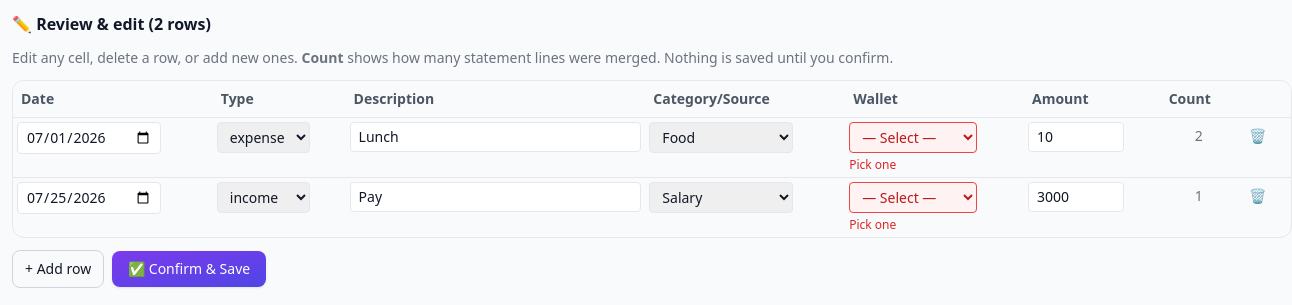
Test: TransactionPreview › blocks save when a row has no wallet and wallets exist
The image size is (1292, 305).
Click the button "✅ Confirm & Save".
click(189, 269)  # box x1=112 y1=251 x2=266 y2=287
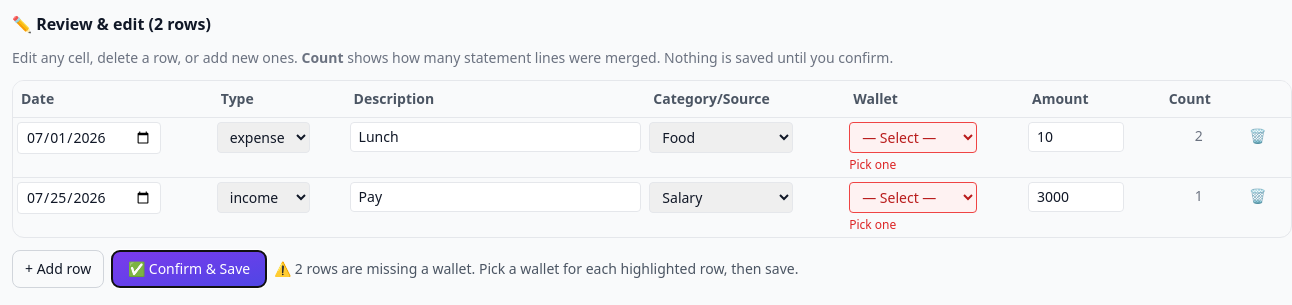
Check: the text "missing a wallet" is shown, box x1=274 y1=259 x2=798 y2=278
